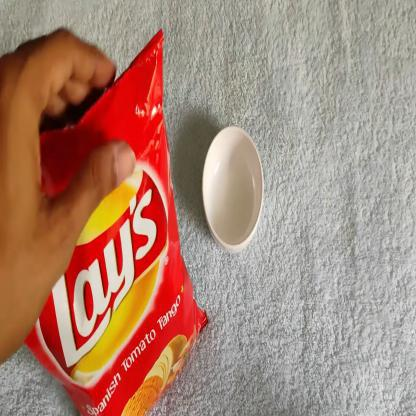tangy_tomato: (22, 25, 209, 415)
